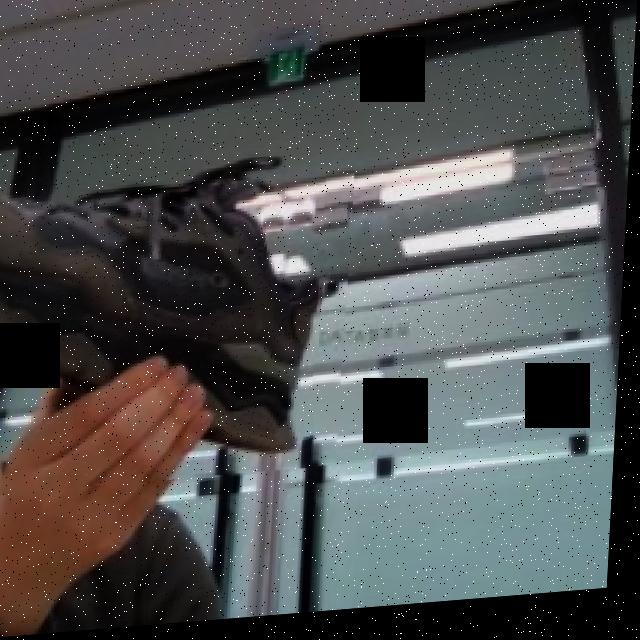shoe: (0, 142, 359, 497)
